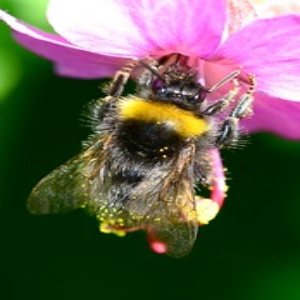bee: (26, 61, 253, 264)
